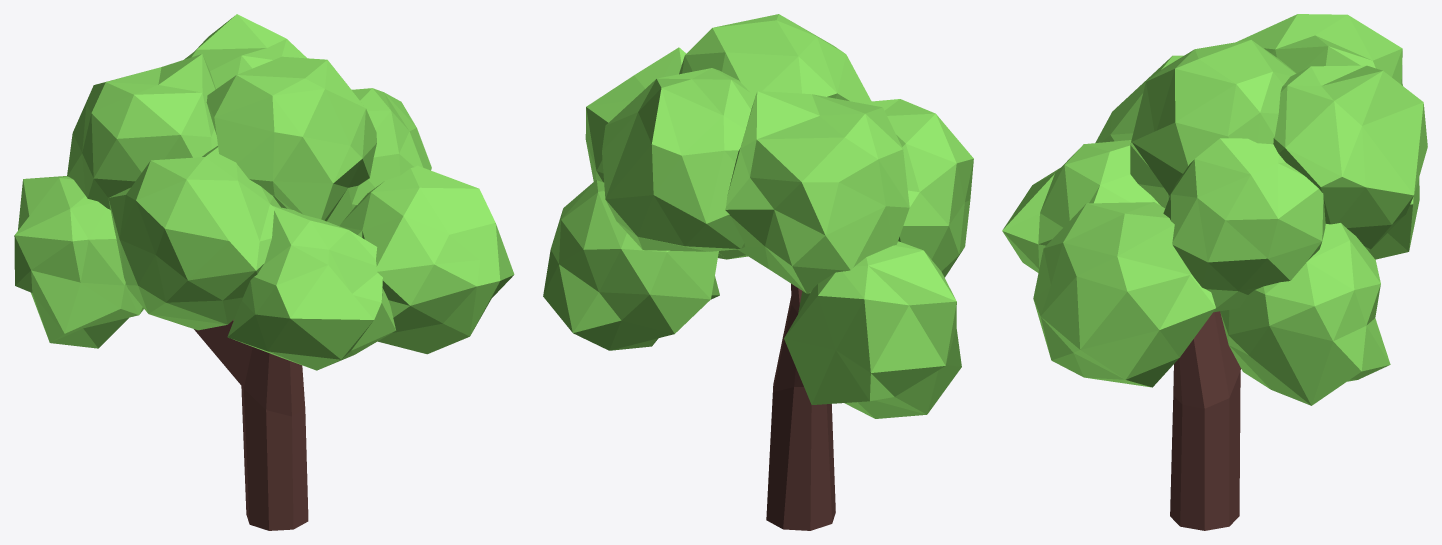
The model's file is TreeBg.glb.
3 views of the same model, side by side, from view 1: azimuth 30°, elevation 25°; view 2: azimuth 150°, elevation 25°; view 3: azimuth 270°, elevation 25° (orthographic). The views are drawn at different scales.
Parts seen in each view (by area): view 1: Cylinder; view 2: Cylinder; view 3: Cylinder.
Part boxes in pixels (x1=…): Cylinder: x1=14, y1=14, x2=514, y2=530; Cylinder: x1=543, y1=14, x2=973, y2=530; Cylinder: x1=1002, y1=14, x2=1427, y2=530.
Size of the model in its own units: 4.42 by 4.83 by 3.96.
